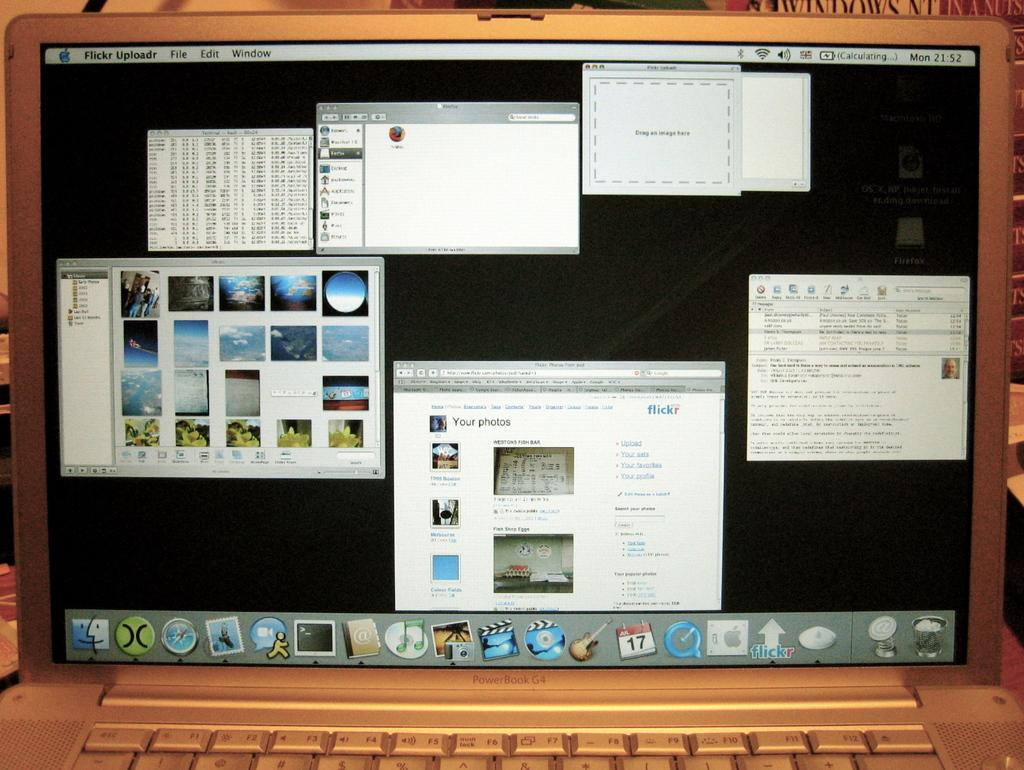Laptop: (3, 6, 1023, 769)
